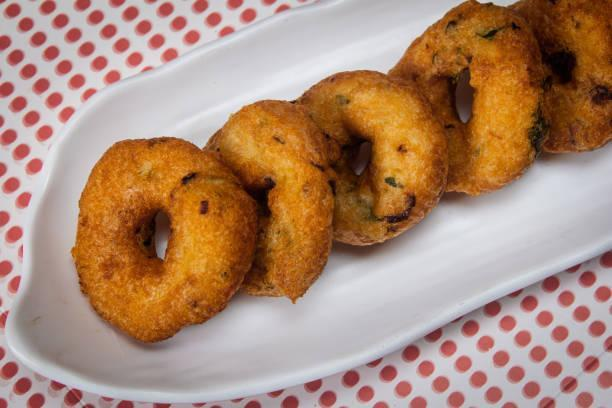mvada: (94, 140, 325, 314)
